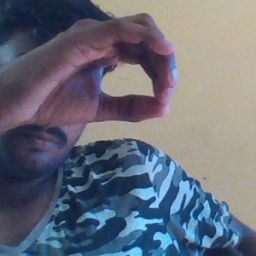O: (15, 8, 179, 137)
